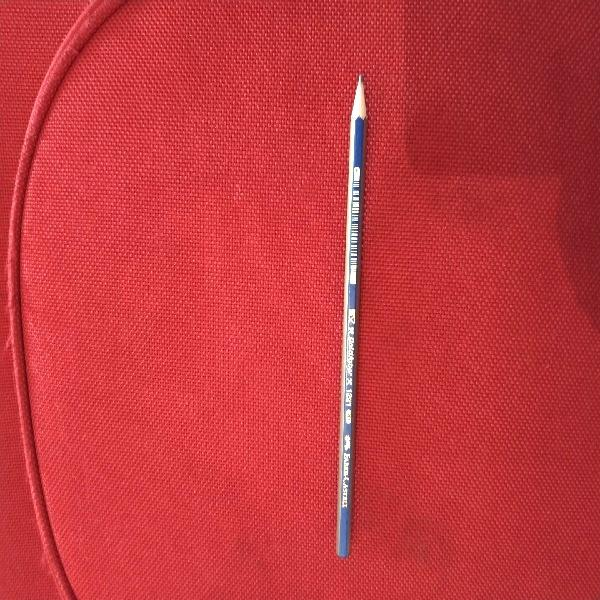pencil: (328, 70, 372, 564)
